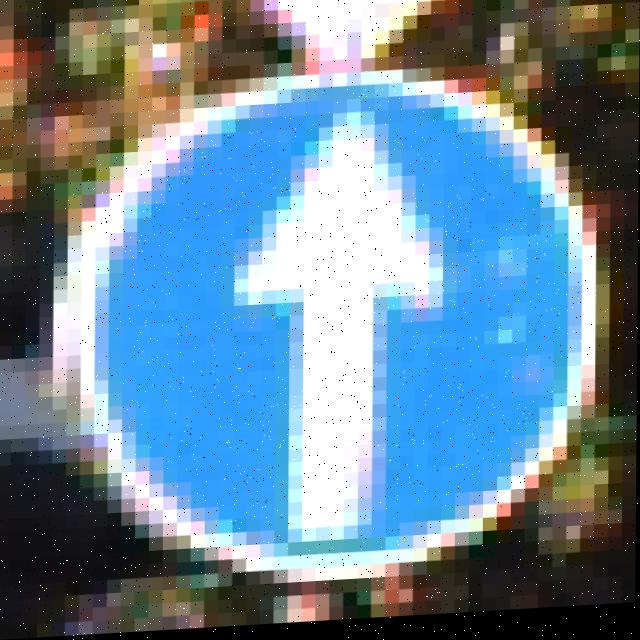compulsory_ahead: (97, 42, 585, 601)
